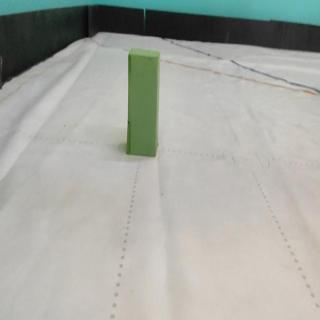greenbox: (124, 45, 164, 158)
